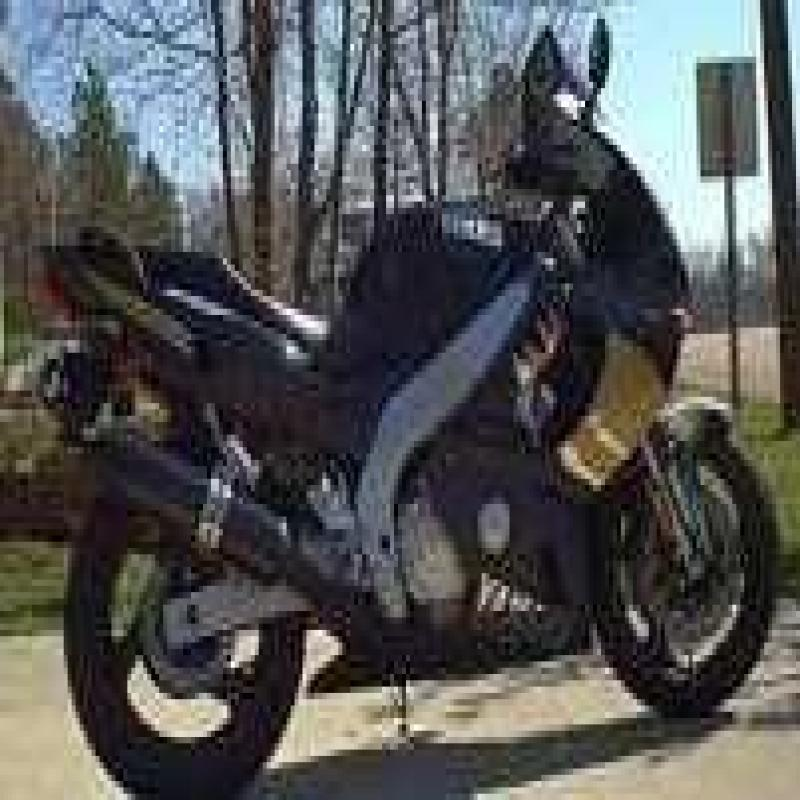bike: (60, 65, 770, 709)
